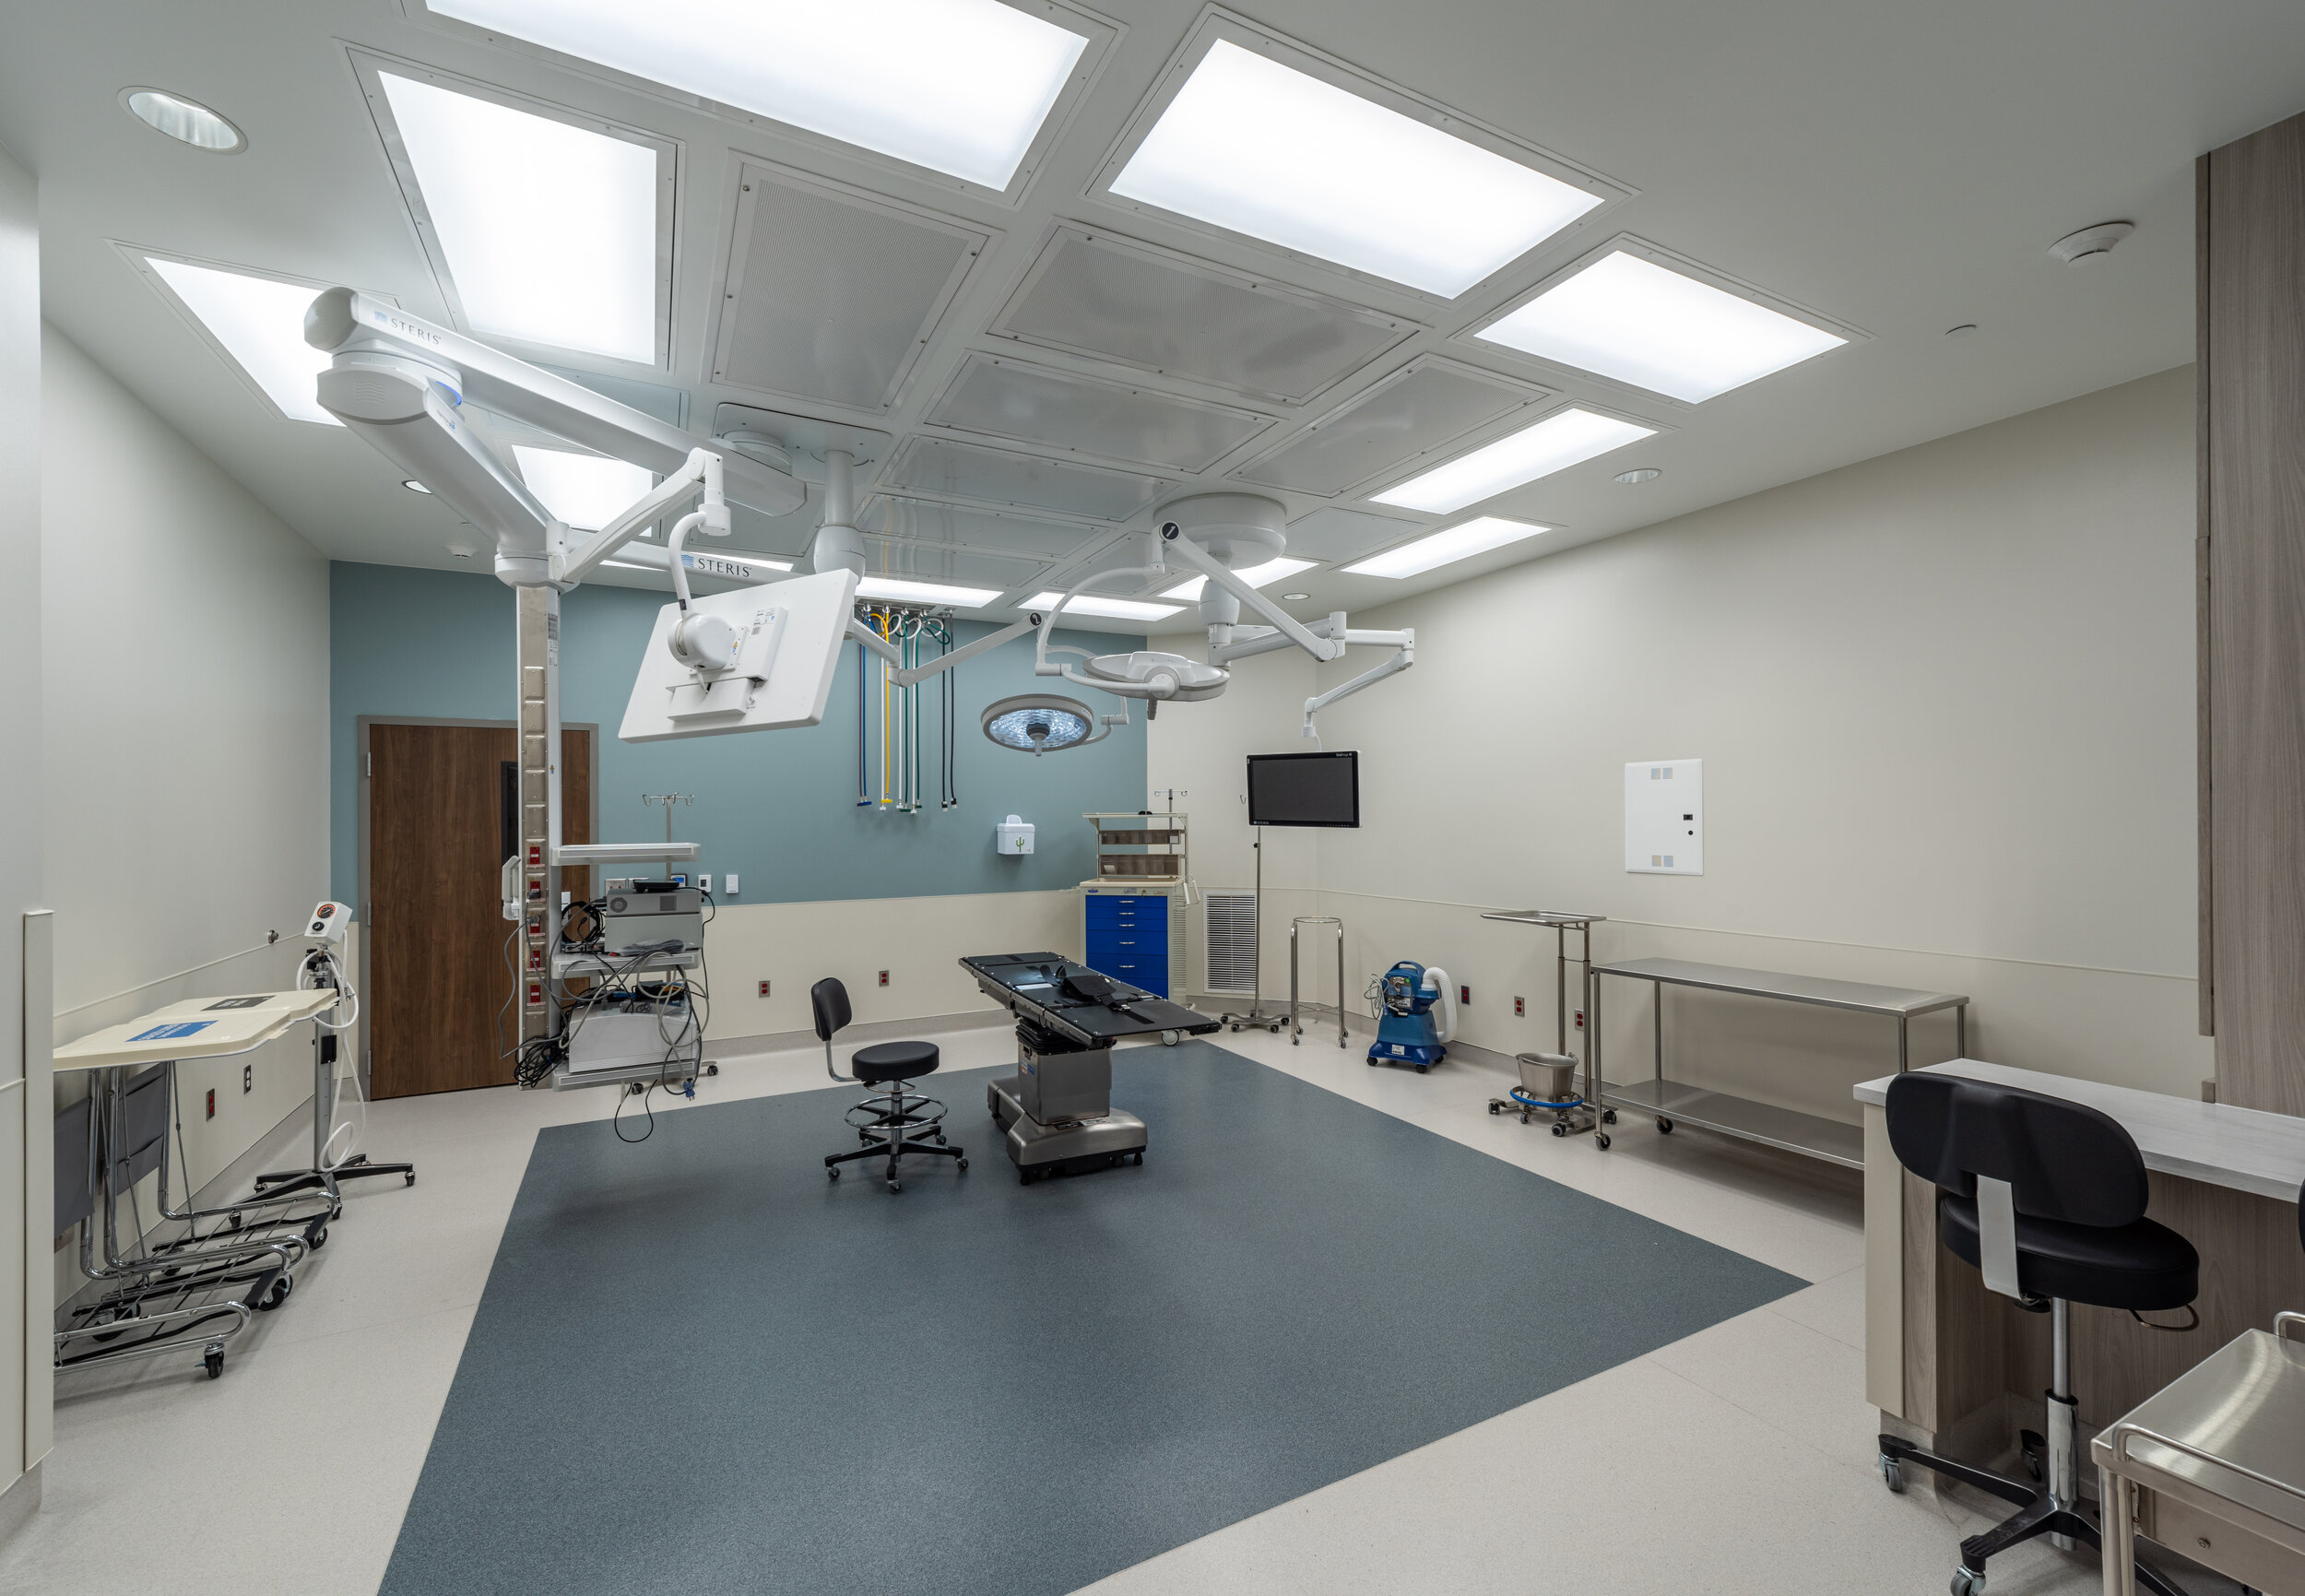bedside_monitor: (606, 571, 862, 741), (1237, 745, 1368, 832)
chair: (1848, 1055, 2305, 1596), (802, 971, 967, 1186), (1287, 909, 1354, 1053)
dispenser: (988, 809, 1049, 857)
iv_pole: (643, 794, 694, 890), (1149, 780, 1189, 830)
medical_drawer: (1063, 862, 1212, 1009)
operating_bed: (949, 943, 1217, 1181)
surgical_light: (1089, 638, 1230, 725), (970, 697, 1109, 757)
table: (1841, 1072, 2305, 1596), (56, 972, 347, 1384)
utility_cart: (1562, 950, 1976, 1163), (2083, 1317, 2293, 1596), (1478, 888, 1596, 1144)
